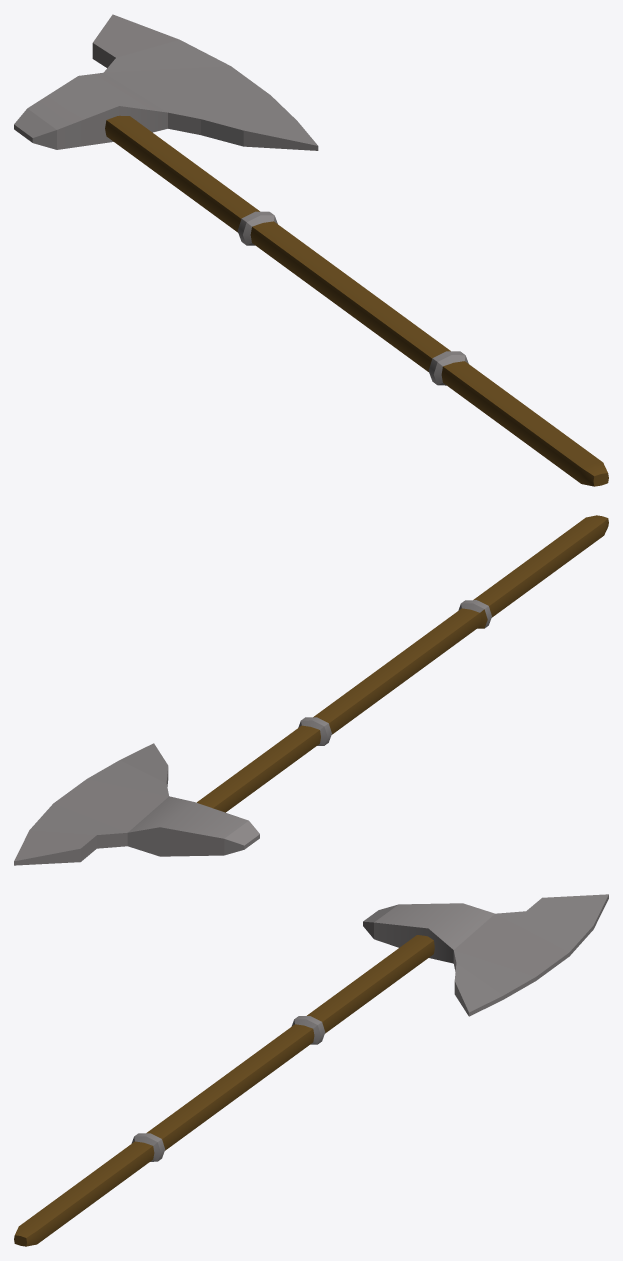
Rendered from mesh_Axe.fbx.
3 views of the same model, one above another, from view 1: azimuth 30°, elevation 25°; view 2: azimuth 150°, elevation 25°; view 3: azimuth 330°, elevation 25° (orthographic). The views are drawn at different scales.
Visible parts, largest first — view 1: Axe; view 2: Axe; view 3: Axe.
Part boxes in pixels (x1,y1,x2,y2): Axe: (14, 14, 608, 486); Axe: (14, 515, 608, 865); Axe: (14, 894, 608, 1246).
Bounding box in the file's own units: 61.97 × 9.35 × 287.
1 material, 1 textured.
